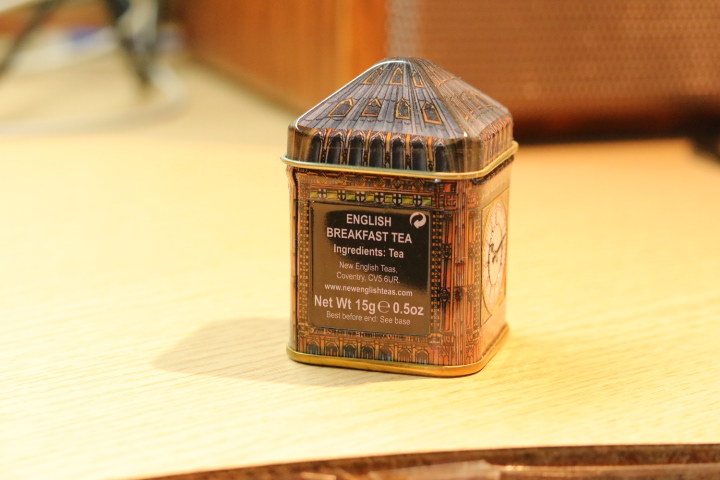Big Ben: (273, 49, 535, 386)
